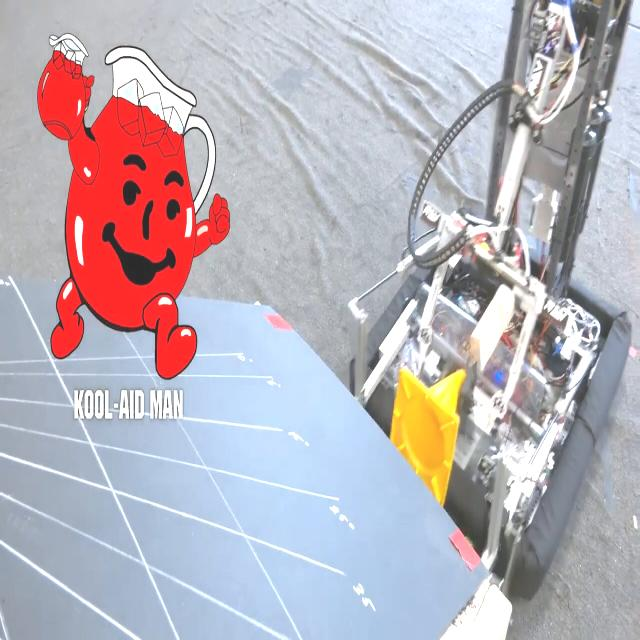frc_cone: (386, 349, 474, 492)
